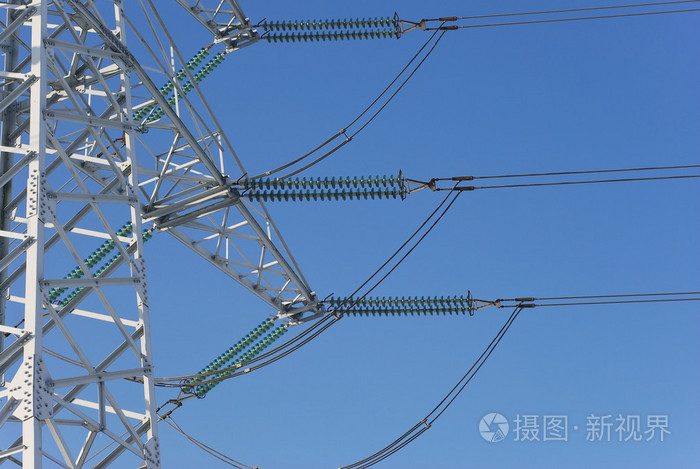insulator: (42, 221, 149, 308), (188, 319, 288, 395), (135, 49, 219, 123), (239, 172, 405, 203), (259, 16, 395, 44), (326, 294, 472, 318)
